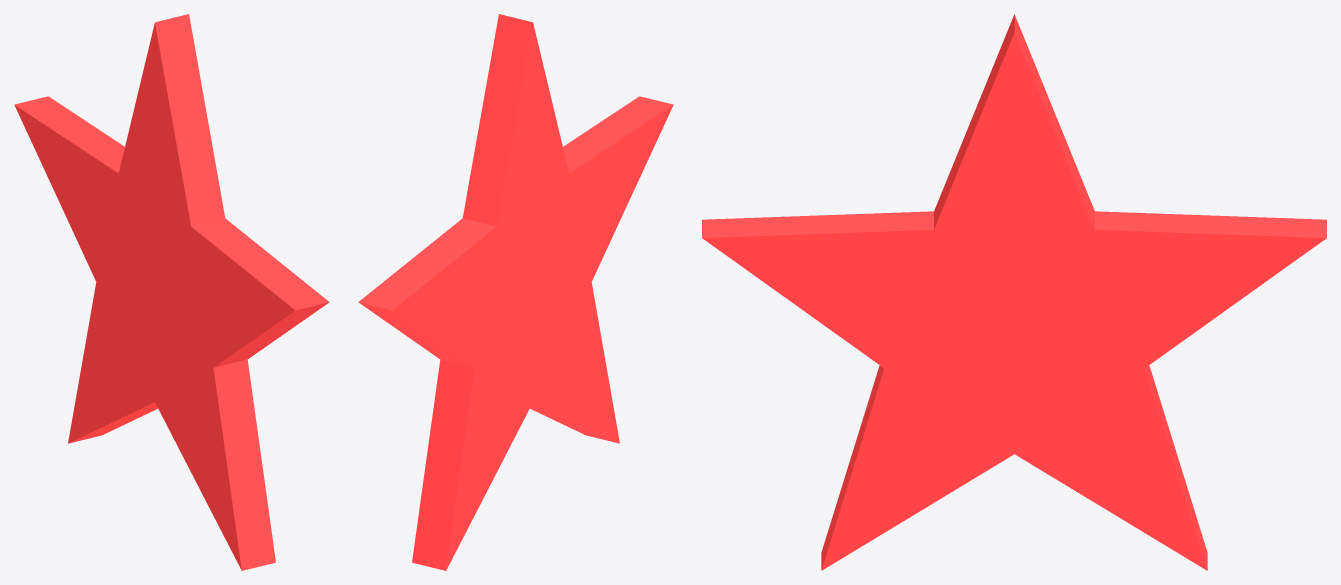
File: red_star.glb
3 renders of one model, left to right at view 1: azimuth 30°, elevation 25°; view 2: azimuth 150°, elevation 25°; view 3: azimuth 270°, elevation 25°, orthographic. The views are drawn at different scales.
Parts seen in each view (by area): view 1: Star; view 2: Star; view 3: Star.
Boxes of the visible parts, <box> form: Star: <box>14,14,329,570</box>; Star: <box>358,14,673,570</box>; Star: <box>702,14,1326,570</box>.
Size of the model in its own units: 0.04 by 0.5427 by 0.5706.
